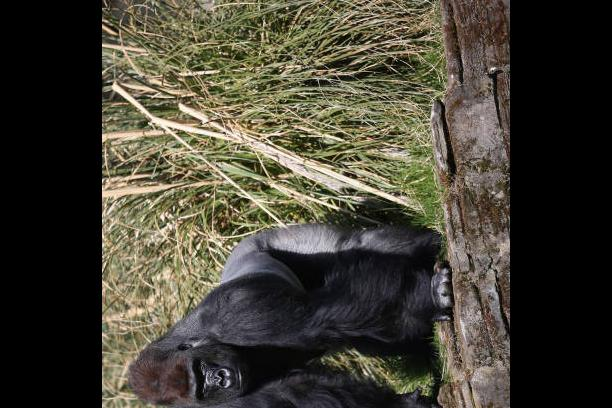goriile_montagne: (104, 195, 442, 408)
